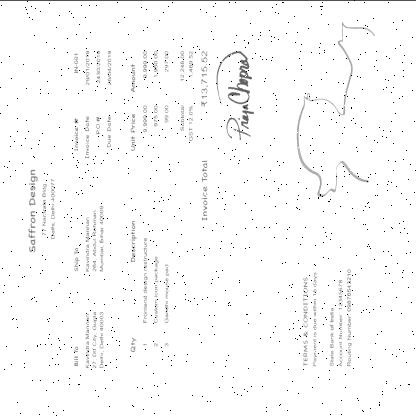Paragraph: (302, 267, 354, 368), (72, 48, 112, 159), (27, 167, 57, 253), (72, 204, 104, 272), (73, 310, 105, 370), (200, 47, 210, 222), (179, 47, 195, 143)
Table: (126, 48, 172, 366)
